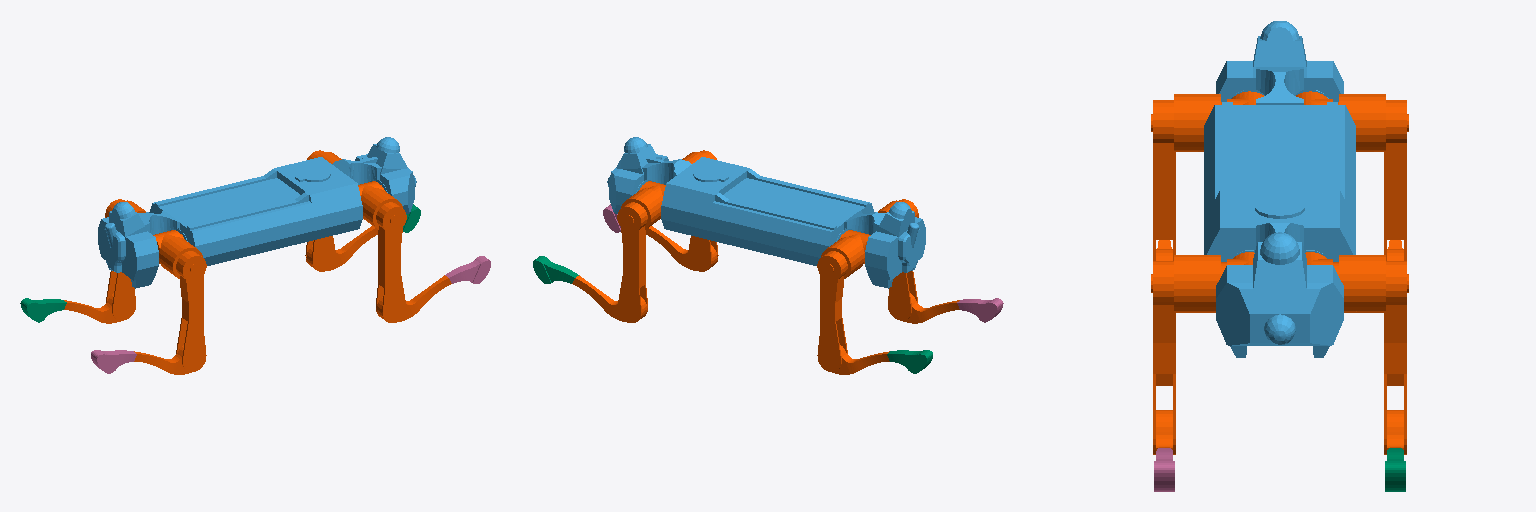
--- Render facts (derived) ---
Views: 3 orthographic renders of the robot side by side, from view 1: azimuth 30°, elevation 25°; view 2: azimuth 150°, elevation 25°; view 3: azimuth 270°, elevation 25°.
Model sirius_diff_new with 19 links and 18 joints (12 revolute, 6 fixed), rooted at base, posed all joints at 0 but 4 set to mid-range because 0 is outside their limits (RF_KFE = -1.81, LF_KFE = -1.81, RH_KFE = 1.81, LH_KFE = 1.81).
Links seen in each view (by area): view 1: trunk, RH_thigh, RF_thigh, LH_thigh, LF_thigh, RF_FOOT, RF_calf, RH_FOOT, LH_FOOT, LF_calf, RH_calf, LH_calf; view 2: trunk, LH_thigh, LF_thigh, RH_thigh, RF_thigh, LF_FOOT, LF_calf, LH_FOOT, RH_FOOT, RF_calf, LH_calf, RH_calf; view 3: trunk, RF_thigh, LF_thigh, RH_thigh, LH_thigh, LF_FOOT, RF_FOOT, RF_calf, LF_calf.
Link boxes in pixels (bbox=[...]): trunk: bbox=[98, 137, 416, 288]; RH_thigh: bbox=[159, 237, 206, 371]; RF_thigh: bbox=[361, 188, 406, 322]; LH_thigh: bbox=[105, 199, 145, 320]; LF_thigh: bbox=[305, 150, 341, 271]; RF_FOOT: bbox=[445, 256, 490, 283]; RF_calf: bbox=[377, 275, 451, 322]; RH_FOOT: bbox=[91, 350, 136, 373]; LH_FOOT: bbox=[20, 298, 66, 322]; LF_calf: bbox=[306, 226, 377, 270]; RH_calf: bbox=[134, 345, 191, 374]; LH_calf: bbox=[64, 293, 120, 323]; trunk: bbox=[607, 137, 925, 288]; LH_thigh: bbox=[817, 237, 864, 371]; LF_thigh: bbox=[617, 188, 662, 322]; RH_thigh: bbox=[878, 199, 918, 320]; RF_thigh: bbox=[682, 150, 718, 271]; LF_FOOT: bbox=[533, 256, 578, 283]; LF_calf: bbox=[572, 275, 646, 322]; LH_FOOT: bbox=[887, 350, 932, 373]; RH_FOOT: bbox=[957, 298, 1003, 322]; RF_calf: bbox=[646, 226, 717, 270]; LH_calf: bbox=[832, 345, 889, 374]; RH_calf: bbox=[903, 293, 959, 323]; trunk: bbox=[1204, 21, 1355, 357]; RF_thigh: bbox=[1151, 255, 1220, 454]; LF_thigh: bbox=[1339, 255, 1408, 454]; RH_thigh: bbox=[1151, 94, 1220, 260]; LH_thigh: bbox=[1339, 94, 1408, 260]; LF_FOOT: bbox=[1385, 448, 1405, 491]; RF_FOOT: bbox=[1154, 448, 1174, 491]; RF_calf: bbox=[1156, 410, 1172, 450]; LF_calf: bbox=[1387, 410, 1403, 449].
Size in the robot's own frame: 1.24 by 0.4266 by 0.4503 metres.
Meshes: 17 distinct files referenced, 17 mesh visuals loaded (8 binary STL, 9 Collada DAE).

URDF robot description (sirius_diff_new):
<?xml version="1.0" ?>
<!-- =================================================================================== -->
<!-- |    This document was autogenerated by xacro from xacro/robot.xacro              | -->
<!-- |    EDITING THIS FILE BY HAND IS NOT RECOMMENDED                                 | -->
<!-- =================================================================================== -->
<robot name="sirius_diff_new">
  <material name="black">
    <color rgba="0.0 0.0 0.0 1.0"/>
  </material>
  <material name="blue">
    <color rgba="0.0 0.0 0.8 1.0"/>
  </material>
  <material name="green">
    <color rgba="0.0 0.8 0.0 1.0"/>
  </material>
  <material name="grey">
    <color rgba="0.2 0.2 0.2 1.0"/>
  </material>
  <material name="silver">
    <color rgba="0.9137254901960784 0.9137254901960784 0.8470588235294118 1.0"/>
  </material>
  <material name="orange">
    <color rgba="1.0 0.4235294117647059 0.0392156862745098 1.0"/>
  </material>
  <material name="brown">
    <color rgba="0.8705882352941177 0.8117647058823529 0.7647058823529411 1.0"/>
  </material>
  <material name="red">
    <color rgba="0.8 0.0 0.0 1.0"/>
  </material>
  <material name="white">
    <color rgba="1.0 1.0 1.0 1.0"/>
  </material>
  <!-- ros_control plugin -->
  <gazebo>
    <plugin filename="liblegged_hw_sim.so" name="gazebo_ros_control">
      <robotNamespace>/</robotNamespace>
      <robotParam>legged_robot_description</robotParam>
      <robotSimType>legged_gazebo/LeggedHWSim</robotSimType>
    </plugin>
  </gazebo>
  <!-- Show the trajectory of trunk center. -->
  <!--    <gazebo>-->
  <!--        <plugin name="3dplot" filename="libLinkPlot3DPlugin.so">-->
  <!--            <frequency>10</frequency>-->
  <!--            <plot>-->
  <!--                <link>base</link>-->
  <!--                <pose>0 0 0 0 0 0</pose>-->
  <!--                <material>Gazebo/Yellow</material>-->
  <!--            </plot>-->
  <!--        </plugin>-->
  <!--    </gazebo>-->
  <!--    <gazebo>-->
  <!--        <plugin name="3dplot" filename="libLinkPlot3DPlugin.so">-->
  <!--            <frequency>300</frequency>-->
  <!--            <plot>-->
  <!--                <link>FR_foot</link>-->
  <!--                <pose>0 0 0 0 0 0</pose>-->
  <!--                <material>Gazebo/Red</material>-->
  <!--            </plot>-->
  <!--        </plugin>-->
  <!--    </gazebo>-->
  <!--    <gazebo>-->
  <!--        <plugin name="3dplot" filename="libLinkPlot3DPlugin.so">-->
  <!--            <frequency>300</frequency>-->
  <!--            <plot>-->
  <!--                <link>FL_foot</link>-->
  <!--                <pose>0 0 0 0 0 0</pose>-->
  <!--                <material>Gazebo/Red</material>-->
  <!--            </plot>-->
  <!--        </plugin>-->
  <!--    </gazebo>-->
  <!--    <gazebo>-->
  <!--        <plugin name="3dplot" filename="libLinkPlot3DPlugin.so">-->
  <!--            <frequency>300</frequency>-->
  <!--            <plot>-->
  <!--                <link>RR_foot</link>-->
  <!--                <pose>0 0 0 0 0 0</pose>-->
  <!--                <material>Gazebo/Red</material>-->
  <!--            </plot>-->
  <!--        </plugin>-->
  <!--    </gazebo>-->
  <!--    <gazebo>-->
  <!--        <plugin name="3dplot" filename="libLinkPlot3DPlugin.so">-->
  <!--            <frequency>300</frequency>-->
  <!--            <plot>-->
  <!--                <link>RL_foot</link>-->
  <!--                <pose>0 0 0 0 0 0</pose>-->
  <!--                <material>Gazebo/Red</material>-->
  <!--            </plot>-->
  <!--        </plugin>-->
  <!--    </gazebo>-->
  <!--    <gazebo>-->
  <!--        <plugin filename="libgazebo_ros_force.so" name="gazebo_ros_force">-->
  <!--            <bodyName>trunk</bodyName>-->
  <!--            <topicName>/apply_force/trunk</topicName>-->
  <!--        </plugin>-->
  <!--    </gazebo>-->
  <gazebo reference="imu_link">
    <gravity>true</gravity>
    <sensor name="imu_sensor" type="imu">
      <always_on>true</always_on>
      <update_rate>1000</update_rate>
      <visualize>true</visualize>
      <topic>__default_topic__</topic>
      <plugin filename="libgazebo_ros_imu_sensor.so" name="imu_plugin">
        <topicName>trunk_imu</topicName>
        <bodyName>imu_link</bodyName>
        <updateRateHZ>1000.0</updateRateHZ>
        <gaussianNoise>0.0</gaussianNoise>
        <xyzOffset>0 0 0</xyzOffset>
        <rpyOffset>0 0 0</rpyOffset>
        <frameName>imu_link</frameName>
      </plugin>
      <pose>0 0 0 0 0 0</pose>
    </sensor>
  </gazebo>
  <!-- Foot contacts. -->
  <!--    <gazebo reference="FR_calf">-->
  <!--        <sensor name="FR_foot_contact" type="contact">-->
  <!--            <update_rate>100</update_rate>-->
  <!--            <plugin name="contactPlugin" filename="libunitreeFootContactPlugin.so"/>-->
  <!--            <contact>-->
  <!--                <collision>FR_calf_fixed_joint_lump__FR_foot_collision_1</collision>-->
  <!--            </contact>-->
  <!--        </sensor>-->
  <!--    </gazebo>-->
  <!--    <gazebo reference="FL_calf">-->
  <!--        <sensor name="FL_foot_contact" type="contact">-->
  <!--            <update_rate>100</update_rate>-->
  <!--            <plugin name="contactPlugin" filename="libunitreeFootContactPlugin.so"/>-->
  <!--            <contact>-->
  <!--                <collision>FL_calf_fixed_joint_lump__FL_foot_collision_1</collision>-->
  <!--            </contact>-->
  <!--        </sensor>-->
  <!--    </gazebo>-->
  <!--    <gazebo reference="RR_calf">-->
  <!--        <sensor name="RR_foot_contact" type="contact">-->
  <!--            <update_rate>100</update_rate>-->
  <!--            <plugin name="contactPlugin" filename="libunitreeFootContactPlugin.so"/>-->
  <!--            <contact>-->
  <!--                <collision>RR_calf_fixed_joint_lump__RR_foot_collision_1</collision>-->
  <!--            </contact>-->
  <!--        </sensor>-->
  <!--    </gazebo>-->
  <!--    <gazebo reference="RL_calf">-->
  <!--        <sensor name="RL_foot_contact" type="contact">-->
  <!--            <update_rate>100</update_rate>-->
  <!--            <plugin name="contactPlugin" filename="libunitreeFootContactPlugin.so"/>-->
  <!--            <contact>-->
  <!--                <collision>RL_calf_fixed_joint_lump__RL_foot_collision_1</collision>-->
  <!--            </contact>-->
  <!--        </sensor>-->
  <!--    </gazebo>-->
  <!--    &lt;!&ndash; Visualization of Foot contacts. &ndash;&gt;-->
  <!--    <gazebo reference="FR_foot">-->
  <!--        <visual>-->
  <!--            <plugin name="drawForcePlugin" filename="libunitreeDrawForcePlugin.so">-->
  <!--                <topicName>FR_foot_contact</topicName>-->
  <!--            </plugin>-->
  <!--        </visual>-->
  <!--    </gazebo>-->
  <!--    <gazebo reference="FL_foot">-->
  <!--        <visual>-->
  <!--            <plugin name="drawForcePlugin" filename="libunitreeDrawForcePlugin.so">-->
  <!--                <topicName>FL_foot_contact</topicName>-->
  <!--            </plugin>-->
  <!--        </visual>-->
  <!--    </gazebo>-->
  <!--    <gazebo reference="RR_foot">-->
  <!--        <visual>-->
  <!--            <plugin name="drawForcePlugin" filename="libunitreeDrawForcePlugin.so">-->
  <!--                <topicName>RR_foot_contact</topicName>-->
  <!--            </plugin>-->
  <!--        </visual>-->
  <!--    </gazebo>-->
  <!--    <gazebo reference="RL_foot">-->
  <!--        <visual>-->
  <!--            <plugin name="drawForcePlugin" filename="libunitreeDrawForcePlugin.so">-->
  <!--                <topicName>RL_foot_contact</topicName>-->
  <!--            </plugin>-->
  <!--        </visual>-->
  <!--    </gazebo>-->
  <gazebo reference="base">
    <material>Gazebo/Green</material>
    <turnGravityOff>false</turnGravityOff>
  </gazebo>
  <gazebo reference="trunk">
    <mu1>0.6</mu1>
    <mu2>0.6</mu2>
    <kp value="1000000.0"/>
    <kd value="10.0"/>
  </gazebo>
  <gazebo reference="stick_link">
    <mu1>0.2</mu1>
    <mu2>0.2</mu2>
    <material>Gazebo/White</material>
  </gazebo>
  <gazebo reference="imu_link">
    <mu1>0.2</mu1>
    <mu2>0.2</mu2>
    <material>Gazebo/Red</material>
  </gazebo>
  <gazebo reference="imu_joint">
    <disableFixedJointLumping>true</disableFixedJointLumping>
  </gazebo>
  <link name="base">
    <visual>
      <origin rpy="0 0 0" xyz="0 0 0"/>
      <geometry>
        <box size="0.001 0.001 0.001"/>
      </geometry>
    </visual>
  </link>
  <joint name="floating_base" type="fixed">
    <origin rpy="0 0 0" xyz="0 0 0"/>
    <parent link="base"/>
    <child link="trunk"/>
  </joint>
  <link name="trunk">
    <visual>
      <origin rpy="0 0 0" xyz="-0 0 0"/>
      <geometry>
        <mesh filename="../meshes/base_link.dae" scale="1 1 1"/>
      </geometry>
    </visual>
    <collision>
      <origin rpy="0 0 0" xyz="0 0 0"/>
      <geometry>
        <!--                <mesh filename="../meshes/base_link.dae" scale="1 1 1"/>-->
        <box size="0.525 0.25 0.114"/>
      </geometry>
    </collision>
    <collision>
      <origin rpy="0 0 0" xyz="0.418 0 0"/>
      <geometry>
        <box size="0.105 0.21 0.16"/>
      </geometry>
    </collision>
    <collision>
      <origin rpy="0 0 0" xyz="-0.4105 0 0"/>
      <geometry>
        <box size="0.09 0.21 0.16"/>
      </geometry>
    </collision>
    <collision>
      <origin rpy="0 0 0" xyz="0.3905 -0.06 -0.0718"/>
      <geometry>
        <sphere radius="0.02"/>
      </geometry>
    </collision>
    <collision>
      <origin rpy="0 0 0" xyz="-0.3905 -0.06 -0.0718"/>
      <geometry>
        <sphere radius="0.02"/>
      </geometry>
    </collision>
    <collision>
      <origin rpy="0 0 0" xyz="0.3905 0.06 -0.0718"/>
      <geometry>
        <sphere radius="0.02"/>
      </geometry>
    </collision>
    <collision>
      <origin rpy="0 0 0" xyz="-0.3905 0.06 -0.0718"/>
      <geometry>
        <sphere radius="0.02"/>
      </geometry>
    </collision>
    <inertial>
      <origin rpy="0 0 0" xyz="0.02677303 0.0 0.00632505"/>
      <mass value="21.5654"/>
      <inertia ixx="0.10767656" ixy="3.3e-07" ixz="-0.0087152" iyy="2.82545726" iyz="-2.4e-07" izz="2.85571634"/>
    </inertial>
  </link>
  <joint name="imu_joint" type="fixed">
    <parent link="trunk"/>
    <child link="imu_link"/>
    <origin rpy="0 0 0" xyz="-0.01592 -0.06659 -0.00617"/>
  </joint>
  <link name="imu_link">
    <inertial>
      <mass value="0.001"/>
      <origin rpy="0 0 0" xyz="0 0 0"/>
      <inertia ixx="0.0001" ixy="0" ixz="0" iyy="0.0001" iyz="0" izz="0.0001"/>
    </inertial>
    <visual>
      <origin rpy="0 0 0" xyz="0 0 0"/>
      <geometry>
        <box size="0.001 0.001 0.001"/>
      </geometry>
      <!-- <material name="red"/> -->
    </visual>
    <collision>
      <origin rpy="0 0 0" xyz="0 0 0"/>
      <geometry>
        <box size=".001 .001 .001"/>
      </geometry>
    </collision>
  </link>
  <!--       *********************************** abad description *************8-->
  <joint name="RF_HAA" type="revolute">
    <!--            insert start block from parent file-->
    <origin rpy="0 0 0" xyz="0.314 -0.05 0"/>
    <parent link="trunk"/>
    <child link="RF_hip"/>
    <axis xyz="1 0 0"/>
    <dynamics damping="0" friction="0.01"/>
    <limit effort="45" lower="-0.8028514559173915" upper="0.8028514559173915" velocity="21"/>
  </joint>
  <link name="RF_hip">
    <visual>
      <origin rpy="0 0 0" xyz="0 0 0"/>
      <geometry>
        <mesh filename="../meshes/fr_abad_link.dae" scale="1 1 1"/>
      </geometry>
      <material name="orange"/>
    </visual>
    <collision>
      <origin rpy="1.5707963267948966 0 0" xyz="0.0 -0.03 0"/>
      <geometry>
        <cylinder length="0.09" radius="0.055"/>
      </geometry>
    </collision>
    <!--            tochange here-->
    <!--            <collision>-->
    <!--                <origin rpy="${pi/2} 0 0"-->
    <!--                        xyz="${abad_origin_x*front_hind_mirror} ${abad_origin_y*left_right_mirror} 0"/>-->
    <!--                <geometry>-->
    <!--                    <xacro:if value="${(left_right_bool == True) and (front_hind_bool == True)}">-->
    <!--                        <mesh filename="../meshes/fl_abad_link.dae"-->
    <!--                              scale="1 1 1"/>-->
    <!--                    </xacro:if>-->
    <!--                    <xacro:if value="${(left_right_bool == False) and (front_hind_bool == True)}">-->
    <!--                        <mesh filename="../meshes/fr_abad_link.dae"-->
    <!--                              scale="1 1 1"/>-->
    <!--                    </xacro:if>-->
    <!--                    <xacro:if value="${(left_right_bool == True) and (front_hind_bool == False)}">-->
    <!--                        <mesh filename="../meshes/rl_abad_link.dae"-->
    <!--                              scale="1 1 1"/>-->
    <!--                    </xacro:if>-->
    <!--                    <xacro:if value="${(left_right_bool == False) and (front_hind_bool == False)}">-->
    <!--                        <mesh filename="../meshes/rr_abad_link.dae"-->
    <!--                              scale="1 1 1"/>-->
    <!--                    </xacro:if>-->
    <!--                </geometry>-->
    <!--            </collision>-->
    <inertial>
      <origin rpy="0 0 0" xyz="1.787e-05 -0.00607236 -8.968e-05"/>
      <mass value="0.7766"/>
      <inertia ixx="0.00066364" ixy="-0.0" ixz="0" iyy="0.00093712" iyz="-2.89e-06" izz="0.00106375"/>
    </inertial>
  </link>
  <!--        *************************************** hip description ******************************************************-->
  <joint name="RF_HFE" type="revolute">
    <origin rpy="0 0 0" xyz="0 -0.1408 0"/>
    <parent link="RF_hip"/>
    <child link="RF_thigh"/>
    <axis xyz="0 1 0"/>
    <dynamics damping="0" friction="0.01"/>
    <limit effort="45" lower="-4.1887902047863905" upper="4.1887902047863905" velocity="21"/>
  </joint>
  <link name="RF_thigh">
    <visual>
      <origin rpy="0 0 0" xyz="0 0 0"/>
      <geometry>
        <mesh filename="../meshes/fr_hip_link.dae" scale="1 1 1"/>
      </geometry>
      <material name="orange"/>
    </visual>
    <collision>
      <origin rpy="1.5707963267948966 0 0" xyz="0 0 0"/>
      <geometry>
        <cylinder length="0.039" radius="0.0375"/>
      </geometry>
    </collision>
    <collision>
      <origin rpy="1.5707963267948966 0 0" xyz="0 0.04 0"/>
      <geometry>
        <cylinder length="0.048" radius="0.05"/>
      </geometry>
    </collision>
    <collision>
      <origin rpy="0 1.5707963267948966 0" xyz="0 0 -0.1382"/>
      <geometry>
        <box size="0.2159 0.05 0.05"/>
      </geometry>
    </collision>
    <inertial>
      <origin rpy="0 0 0" xyz="-0.00142243 0.02451835 -0.06737031"/>
      <mass value="2.1028"/>
      <inertia ixx="0.03392455" ixy="1.021e-05" ixz="-0.00038283" iyy="0.03116088" iyz="4.69e-05" izz="0.00483256"/>
    </inertial>
  </link>
  <!--************************************************ knee description ***********************************************************8-->
  <joint name="RF_KFE" type="revolute">
    <origin rpy="0 0 0" xyz="0.0 -0.0 -0.272"/>
    <parent link="RF_thigh"/>
    <child link="RF_calf"/>
    <axis xyz="0 1 0"/>
    <dynamics damping="0" friction="0.01"/>
    <limit effort="80" lower="-2.6965336943312392" upper="-0.9162978572970231" velocity="21"/>
  </joint>
  <link name="RF_calf">
    <visual>
      <origin rpy="0 0 0" xyz="0 0 0"/>
      <geometry>
        <mesh filename="../meshes/fr_knee_link.STL" scale="1 1 1"/>
      </geometry>
      <material name="orange"/>
    </visual>
    <collision>
      <origin rpy="0 0 0" xyz="0 0 0.0"/>
      <geometry>
        <mesh filename="../meshes/fr_knee_link.STL" scale="1 1 1"/>
      </geometry>
    </collision>
    <inertial>
      <origin rpy="0 0 0" xyz="-0.00804831 1.07e-06 -0.12689414"/>
      <mass value="0.4842"/>
      <inertia ixx="0.01527064" ixy="0.0" ixz="-0.00063844" iyy="0.01543121" iyz="2e-08" izz="0.00022068"/>
    </inertial>
  </link>
  <!--       ******************************* foot description ********************************8-->
  <joint name="RF_foot_fixed" type="fixed" dont_collapse="true">
    <origin rpy="0 0 0" xyz="0 0 -0.303542171457651"/>
    <!-- <origin rpy="0 0 0" xyz="0 0 0"/> -->
    <parent link="RF_calf"/>
    <child link="RF_FOOT"/>
  </joint>
  <link name="RF_FOOT">
    <visual>
      <origin rpy="0 0 0" xyz="0 0 0"/>
      <geometry>
        <mesh filename="../meshes/fr_foot_link.STL" scale="1 1 1"/>
      </geometry>
    </visual>
    <collision>
      <origin rpy="0 0 0" xyz="0 0 0"/>
        <!-- <geometry>
          <sphere radius="0.03"/>
        </geometry> -->
      <geometry>
        <mesh filename="../meshes/fr_foot_link.STL" scale="1 1 1"/>
      </geometry>
    </collision>
    <inertial>
      <mass value="0.06"/>
      <inertia ixx="9.600000000000001e-04" ixy="0.0" ixz="0.0" iyy="9.600000000000001e-04" iyz="0.0" izz="9.600000000000001e-03"/>
    </inertial>
  </link>
  <!--        ************************** gazebo setting ***********************************************8-->
  <gazebo reference="RF_foot_fixed">
    <disableFixedJointLumping>true</disableFixedJointLumping>
  </gazebo>
  <gazebo reference="RF_hip">
    <!--            <mu1>0.5</mu1>-->
    <!--            <mu2>0.5</mu2>-->
    <!--            <self_collide>1</self_collide>-->
    <!--            <material>Gazebo/DarkGrey</material>-->
  </gazebo>
  <gazebo reference="RF_thigh">
    <mu1>0.6</mu1>
    <mu2>0.6</mu2>
    <self_collide>0</self_collide>
    <material>Gazebo/DarkGrey</material>
    <kp value="100000.0"/>
    <kd value="1.0"/>
  </gazebo>
  <gazebo reference="RF_calf">
    <mu1>0.6</mu1>
    <mu2>0.6</mu2>
    <self_collide>1</self_collide>
    <material>Gazebo/DarkGrey</material>
    <kp value="100000.0"/>
    <kd value="1.0"/>
    <maxVel>10.0</maxVel>
    <minDepth>0.001</minDepth>
  </gazebo>
  <transmission name="RF_hip_tran">
    <type>transmission_interface/SimpleTransmission</type>
    <joint name="RF_HAA">
      <hardwareInterface>hardware_interface/EffortJointInterface</hardwareInterface>
    </joint>
    <actuator name="RF_hip_motor">
      <hardwareInterface>hardware_interface/EffortJointInterface</hardwareInterface>
      <mechanicalReduction>1</mechanicalReduction>
    </actuator>
  </transmission>
  <transmission name="RF_thigh_tran">
    <type>transmission_interface/SimpleTransmission</type>
    <joint name="RF_HFE">
      <hardwareInterface>hardware_interface/EffortJointInterface</hardwareInterface>
    </joint>
    <actuator name="RF_thigh_motor">
      <hardwareInterface>hardware_interface/EffortJointInterface</hardwareInterface>
      <mechanicalReduction>1</mechanicalReduction>
    </actuator>
  </transmission>
  <transmission name="RF_calf_trans">
    <type>transmission_interface/SimpleTransmission</type>
    <joint name="RF_KFE">
      <hardwareInterface>hardware_interface/EffortJointInterface</hardwareInterface>
    </joint>
    <actuator name="RF_calf_motor">
      <hardwareInterface>hardware_interface/EffortJointInterface</hardwareInterface>
      <mechanicalReduction>1</mechanicalReduction>
    </actuator>
  </transmission>
  <!--       *********************************** abad description *************8-->
  <joint name="LF_HAA" type="revolute">
    <!--            insert start block from parent file-->
    <origin rpy="0 0 0" xyz="0.314 0.05 0"/>
    <parent link="trunk"/>
    <child link="LF_hip"/>
    <axis xyz="1 0 0"/>
    <dynamics damping="0" friction="0.01"/>
    <limit effort="45" lower="-0.8028514559173915" upper="0.8028514559173915" velocity="21"/>
  </joint>
  <link name="LF_hip">
    <visual>
      <origin rpy="0 0 0" xyz="0 0 0"/>
      <geometry>
        <mesh filename="../meshes/fl_abad_link.dae" scale="1 1 1"/>
      </geometry>
      <material name="orange"/>
    </visual>
    <collision>
      <origin rpy="1.5707963267948966 0 0" xyz="0.0 0.03 0"/>
      <geometry>
        <cylinder length="0.09" radius="0.055"/>
      </geometry>
    </collision>
    <!--            tochange here-->
    <!--            <collision>-->
    <!--                <origin rpy="${pi/2} 0 0"-->
    <!--                        xyz="${abad_origin_x*front_hind_mirror} ${abad_origin_y*left_right_mirror} 0"/>-->
    <!--                <geometry>-->
    <!--                    <xacro:if value="${(left_right_bool == True) and (front_hind_bool == True)}">-->
    <!--                        <mesh filename="../meshes/fl_abad_link.dae"-->
    <!--                              scale="1 1 1"/>-->
    <!--                    </xacro:if>-->
    <!--                    <xacro:if value="${(left_right_bool == False) and (front_hind_bool == True)}">-->
    <!--                        <mesh filename="../meshes/fr_abad_link.dae"-->
    <!--                              scale="1 1 1"/>-->
    <!--                    </xacro:if>-->
    <!--                    <xacro:if value="${(left_right_bool == True) and (front_hind_bool == False)}">-->
    <!--                        <mesh filename="../meshes/rl_abad_link.dae"-->
    <!--                              scale="1 1 1"/>-->
    <!--                    </xacro:if>-->
    <!--                    <xacro:if value="${(left_right_bool == False) and (front_hind_bool == False)}">-->
    <!--                        <mesh filename="../meshes/rr_abad_link.dae"-->
    <!--                              scale="1 1 1"/>-->
    <!--                    </xacro:if>-->
    <!--                </geometry>-->
    <!--            </collision>-->
    <inertial>
      <origin rpy="0 0 0" xyz="1.787e-05 0.00607236 -8.968e-05"/>
      <mass value="0.7766"/>
      <inertia ixx="0.00066364" ixy="0.0" ixz="0" iyy="0.00093712" iyz="2.89e-06" izz="0.00106375"/>
    </inertial>
  </link>
  <!--        *************************************** hip description ******************************************************-->
  <joint name="LF_HFE" type="revolute">
    <origin rpy="0 0 0" xyz="0 0.1408 0"/>
    <parent link="LF_hip"/>
    <child link="LF_thigh"/>
    <axis xyz="0 1 0"/>
    <dynamics damping="0" friction="0.01"/>
    <limit effort="45" lower="-4.1887902047863905" upper="4.1887902047863905" velocity="21"/>
  </joint>
  <link name="LF_thigh">
    <visual>
      <origin rpy="0 0 0" xyz="0 0 0"/>
      <geometry>
        <mesh filename="../meshes/fl_hip_link.dae" scale="1 1 1"/>
      </geometry>
      <material name="orange"/>
    </visual>
    <collision>
      <origin rpy="1.5707963267948966 0 0" xyz="0 0 0"/>
      <geometry>
        <cylinder length="0.039" radius="0.0375"/>
      </geometry>
    </collision>
    <collision>
      <origin rpy="1.5707963267948966 0 0" xyz="0 -0.04 0"/>
      <geometry>
        <cylinder length="0.048" radius="0.05"/>
      </geometry>
    </collision>
    <collision>
      <origin rpy="0 1.5707963267948966 0" xyz="0 0 -0.1382"/>
      <geometry>
        <box size="0.2159 0.05 0.05"/>
      </geometry>
    </collision>
    <inertial>
      <origin rpy="0 0 0" xyz="-0.00142243 -0.02451835 -0.06737031"/>
      <mass value="2.1028"/>
      <inertia ixx="0.03392455" ixy="-1.021e-05" ixz="-0.00038283" iyy="0.03116088" iyz="-4.69e-05" izz="0.00483256"/>
    </inertial>
  </link>
  <!--************************************************ knee description ***********************************************************8-->
  <joint name="LF_KFE" type="revolute">
    <origin rpy="0 0 0" xyz="0.0 0.0 -0.272"/>
    <parent link="LF_thigh"/>
    <child link="LF_calf"/>
    <axis xyz="0 1 0"/>
    <dynamics damping="0" friction="0.01"/>
    <limit effort="80" lower="-2.6965336943312392" upper="-0.9162978572970231" velocity="21"/>
  </joint>
  <link name="LF_calf">
    <visual>
      <origin rpy="0 0 0" xyz="0 0 0"/>
      <geometry>
        <mesh filename="../meshes/fl_knee_link.STL" scale="1 1 1"/>
      </geometry>
      <material name="orange"/>
    </visual>
    <collision>
      <origin rpy="0 0 0" xyz="0 0 0.0"/>
      <geometry>
        <mesh filename="../meshes/fl_knee_link.STL" scale="1 1 1"/>
      </geometry>
    </collision>
    <inertial>
      <origin rpy="0 0 0" xyz="-0.00804831 1.07e-06 -0.12689414"/>
      <mass value="0.4842"/>
      <inertia ixx="0.01527064" ixy="0.0" ixz="-0.00063844" iyy="0.01543121" iyz="2e-08" izz="0.00022068"/>
    </inertial>
  </link>
  <!--       ******************************* foot description ********************************8-->
  <joint name="LF_foot_fixed" type="fixed" dont_collapse="true">
    <origin rpy="0 0 0" xyz="0 0 -0.303542171457651"/>
    <!-- <origin rpy="0 0 0" xyz="0 0 0"/> -->
    <parent link="LF_calf"/>
    <child link="LF_FOOT"/>
  </joint>
  <link name="LF_FOOT">
    <visual>
      <origin rpy="0 0 0" xyz="0 0 0"/>
      <geometry>
        <mesh filename="../meshes/fl_foot_link.STL" scale="1 1 1"/>
      </geometry>
    </visual>
    <collision>
      <origin rpy="0 0 0" xyz="0 0 0"/>
      <!-- <geometry>
        <sphere radius="0.03"/>
      </geometry> -->
      <geometry>
        <mesh filename="../meshes/fl_foot_link.STL" scale="1 1 1"/>
      </geometry>
    </collision>
    <inertial>
      <mass value="0.06"/>
      <inertia ixx="9.600000000000001e-04" ixy="0.0" ixz="0.0" iyy="9.600000000000001e-04" iyz="0.0" izz="9.600000000000001e-03"/>
    </inertial>
  </link>
  <!--        ************************** gazebo setting ***********************************************8-->
  <gazebo reference="LF_foot_fixed">
    <disableFixedJointLumping>true</disableFixedJointLumping>
  </gazebo>
  <gazebo reference="LF_hip">
    <!--            <mu1>0.5</mu1>-->
    <!--            <mu2>0.5</mu2>-->
    <!--            <self_collide>1</self_collide>-->
    <!--            <material>Gazebo/DarkGrey</material>-->
  </gazebo>
  <gazebo reference="LF_thigh">
    <mu1>0.6</mu1>
    <mu2>0.6</mu2>
    <self_collide>0</self_collide>
    <material>Gazebo/DarkGrey</material>
    <kp value="100000.0"/>
    <kd value="1.0"/>
  </gazebo>
  <gazebo reference="LF_calf">
    <mu1>0.6</mu1>
    <mu2>0.6</mu2>
    <self_collide>1</self_collide>
    <material>Gazebo/DarkGrey</material>
    <kp value="100000.0"/>
    <kd value="1.0"/>
    <maxVel>10.0</maxVel>
    <minDepth>0.001</minDepth>
  </gazebo>
  <transmission name="LF_hip_tran">
    <type>transmission_interface/SimpleTransmission</type>
    <joint name="LF_HAA">
      <hardwareInterface>hardware_interface/EffortJointInterface</hardwareInterface>
    </joint>
    <actuator name="LF_hip_motor">
      <hardwareInterface>hardware_interface/EffortJointInterface</hardwareInterface>
      <mechanicalReduction>1</mechanicalReduction>
    </actuator>
  </transmission>
  <transmission name="LF_thigh_tran">
    <type>transmission_interface/SimpleTransmission</type>
    <joint name="LF_HFE">
      <hardwareInterface>hardware_interface/EffortJointInterface</hardwareInterface>
    </joint>
    <actuator name="LF_thigh_motor">
      <hardwareInterface>hardware_interface/EffortJointInterface</hardwareInterface>
      <mechanicalReduction>1</mechanicalReduction>
    </actuator>
  </transmission>
  <transmission name="LF_calf_trans">
    <type>transmission_interface/SimpleTransmission</type>
    <joint name="LF_KFE">
      <hardwareInterface>hardware_interface/EffortJointInterface</hardwareInterface>
    </joint>
    <actuator name="LF_calf_motor">
      <hardwareInterface>hardware_interface/EffortJointInterface</hardwareInterface>
      <mechanicalReduction>1</mechanicalReduction>
    </actuator>
  </transmission>
  <!--       *********************************** abad description *************8-->
  <joint name="RH_HAA" type="revolute">
    <!--            insert start block from parent file-->
    <origin rpy="0 0 0" xyz="-0.314 -0.05 0"/>
    <parent link="trunk"/>
    <child link="RH_hip"/>
    <axis xyz="1 0 0"/>
    <dynamics damping="0" friction="0.01"/>
    <limit effort="45" lower="-0.8028514559173915" upper="0.8028514559173915" velocity="21"/>
  </joint>
  <link name="RH_hip">
    <visual>
      <origin rpy="0 0 0" xyz="0 0 0"/>
      <geometry>
        <mesh filename="../meshes/rr_abad_link.dae" scale="1 1 1"/>
      </geometry>
      <material name="orange"/>
    </visual>
    <collision>
      <origin rpy="1.5707963267948966 0 0" xyz="-0.0 -0.03 0"/>
      <geometry>
        <cylinder length="0.09" radius="0.055"/>
      </geometry>
    </collision>
    <!--            tochange here-->
    <!--            <collision>-->
    <!--                <origin rpy="${pi/2} 0 0"-->
    <!--                        xyz="${abad_origin_x*front_hind_mirror} ${abad_origin_y*left_right_mirror} 0"/>-->
    <!--                <geometry>-->
    <!--                    <xacro:if value="${(left_right_bool == True) and (front_hind_bool == True)}">-->
    <!--                        <mesh filename="../meshes/fl_abad_link.dae"-->
    <!--                              scale="1 1 1"/>-->
    <!--                    </xacro:if>-->
    <!--                    <xacro:if value="${(left_right_bool == False) and (front_hind_bool == True)}">-->
    <!--                        <mesh filename="../meshes/fr_abad_link.dae"-->
    <!--                              scale="1 1 1"/>-->
    <!--                    </xacro:if>-->
    <!--                    <xacro:if value="${(left_right_bool == True) and (front_hind_bool == False)}">-->
    <!--                        <mesh filename="../meshes/rl_abad_link.dae"-->
    <!--                              scale="1 1 1"/>-->
    <!--                    </xacro:if>-->
    <!--                    <xacro:if value="${(left_right_bool == False) and (front_hind_bool == False)}">-->
    <!--                        <mesh filename="../meshes/rr_abad_link.dae"-->
    <!--                              scale="1 1 1"/>-->
    <!--                    </xacro:if>-->
    <!--                </geometry>-->
    <!--            </collision>-->
    <inertial>
      <origin rpy="0 0 0" xyz="-1.787e-05 -0.00607236 -8.968e-05"/>
      <mass value="0.7766"/>
      <inertia ixx="0.00066364" ixy="0.0" ixz="0" iyy="0.00093712" iyz="-2.89e-06" izz="0.00106375"/>
    </inertial>
  </link>
  <!--        *************************************** hip description ******************************************************-->
  <joint name="RH_HFE" type="revolute">
    <origin rpy="0 0 0" xyz="0 -0.1408 0"/>
    <parent link="RH_hip"/>
    <child link="RH_thigh"/>
    <axis xyz="0 1 0"/>
    <dynamics damping="0" friction="0.01"/>
    <limit effort="45" lower="-4.1887902047863905" upper="4.1887902047863905" velocity="21"/>
  </joint>
  <link name="RH_thigh">
    <visual>
      <origin rpy="0 0 0" xyz="0 0 0"/>
      <geometry>
        <mesh filename="../meshes/rr_hip_link.dae" scale="1 1 1"/>
      </geometry>
      <material name="orange"/>
    </visual>
    <collision>
      <origin rpy="1.5707963267948966 0 0" xyz="0 0 0"/>
      <geometry>
        <cylinder length="0.039" radius="0.0375"/>
      </geometry>
    </collision>
    <collision>
      <origin rpy="1.5707963267948966 0 0" xyz="0 0.04 0"/>
      <geometry>
        <cylinder length="0.048" radius="0.05"/>
      </geometry>
    </collision>
    <collision>
      <origin rpy="0 1.5707963267948966 0" xyz="0 0 -0.1382"/>
      <geometry>
        <box size="0.2159 0.05 0.05"/>
      </geometry>
    </collision>
    <inertial>
      <origin rpy="0 0 0" xyz="0.00142243 0.02451835 -0.06737031"/>
      <mass value="2.1028"/>
      <inertia ixx="0.03392455" ixy="1.021e-05" ixz="-0.00038283" iyy="0.03116088" iyz="4.69e-05" izz="0.00483256"/>
    </inertial>
  </link>
  <!--************************************************ knee description ***********************************************************8-->
  <joint name="RH_KFE" type="revolute">
    <origin rpy="0 0 0" xyz="-0.0 -0.0 -0.272"/>
    <parent link="RH_thigh"/>
    <child link="RH_calf"/>
    <axis xyz="0 1 0"/>
    <dynamics damping="0" friction="0.01"/>
    <limit effort="80" lower="0.9162978572970231" upper="2.6965336943312392" velocity="21"/>
  </joint>
  <link name="RH_calf">
    <visual>
      <origin rpy="0 0 0" xyz="0 0 0"/>
      <geometry>
        <mesh filename="../meshes/rr_knee_link.STL" scale="1 1 1"/>
      </geometry>
      <material name="orange"/>
    </visual>
    <collision>
      <origin rpy="0 0 0" xyz="0 0 0.0"/>
      <geometry>
        <mesh filename="../meshes/rr_knee_link.STL" scale="1 1 1"/>
      </geometry>
    </collision>
    <inertial>
      <origin rpy="0 0 0" xyz="-0.00804831 1.07e-06 -0.12689414"/>
      <mass value="0.4842"/>
      <inertia ixx="0.01527064" ixy="0.0" ixz="-0.00063844" iyy="0.01543121" iyz="2e-08" izz="0.00022068"/>
    </inertial>
  </link>
  <!--       ******************************* foot description ********************************8-->
  <joint name="RH_foot_fixed" type="fixed" dont_collapse="true">
    <origin rpy="0 0 0" xyz="0. 0 -0.303542171457651"/>
    <!-- <origin rpy="0 0 0" xyz="0 0 0"/> -->
    <parent link="RH_calf"/>
    <child link="RH_FOOT"/>
  </joint>
  <link name="RH_FOOT">
    <visual>
      <origin rpy="0 0 0" xyz="0 0 0"/>
      <geometry>
        <mesh filename="../meshes/rr_foot_link.STL" scale="1 1 1"/>
      </geometry>
    </visual>
    <collision>
      <origin rpy="0 0 0" xyz="0 0 0"/>
      <!-- <geometry>
        <sphere radius="0.03"/>
      </geometry> -->
      <geometry>
        <mesh filename="../meshes/rr_foot_link.STL" scale="1 1 1"/>
      </geometry>
    </collision>
    <inertial>
      <mass value="0.06"/>
      <inertia ixx="9.600000000000001e-04" ixy="0.0" ixz="0.0" iyy="9.600000000000001e-04" iyz="0.0" izz="9.600000000000001e-03"/>
    </inertial>
  </link>
  <!--        ************************** gazebo setting ***********************************************8-->
  <gazebo reference="RH_foot_fixed">
    <disableFixedJointLumping>true</disableFixedJointLumping>
  </gazebo>
  <gazebo reference="RH_hip">
    <!--            <mu1>0.5</mu1>-->
    <!--            <mu2>0.5</mu2>-->
    <!--            <self_collide>1</self_collide>-->
    <!--            <material>Gazebo/DarkGrey</material>-->
  </gazebo>
  <gazebo reference="RH_thigh">
    <mu1>0.6</mu1>
    <mu2>0.6</mu2>
    <self_collide>0</self_collide>
    <material>Gazebo/DarkGrey</material>
    <kp value="100000.0"/>
    <kd value="1.0"/>
  </gazebo>
  <gazebo reference="RH_calf">
    <mu1>0.6</mu1>
    <mu2>0.6</mu2>
    <self_collide>1</self_collide>
    <material>Gazebo/DarkGrey</material>
    <kp value="100000.0"/>
    <kd value="1.0"/>
    <maxVel>10.0</maxVel>
    <minDepth>0.001</minDepth>
  </gazebo>
  <transmission name="RH_hip_tran">
    <type>transmission_interface/SimpleTransmission</type>
    <joint name="RH_HAA">
      <hardwareInterface>hardware_interface/EffortJointInterface</hardwareInterface>
    </joint>
    <actuator name="RH_hip_motor">
      <hardwareInterface>hardware_interface/EffortJointInterface</hardwareInterface>
      <mechanicalReduction>1</mechanicalReduction>
    </actuator>
  </transmission>
  <transmission name="RH_thigh_tran">
    <type>transmission_interface/SimpleTransmission</type>
    <joint name="RH_HFE">
      <hardwareInterface>hardware_interface/EffortJointInterface</hardwareInterface>
    </joint>
    <actuator name="RH_thigh_motor">
      <hardwareInterface>hardware_interface/EffortJointInterface</hardwareInterface>
      <mechanicalReduction>1</mechanicalReduction>
    </actuator>
  </transmission>
  <transmission name="RH_calf_trans">
    <type>transmission_interface/SimpleTransmission</type>
    <joint name="RH_KFE">
      <hardwareInterface>hardware_interface/EffortJointInterface</hardwareInterface>
    </joint>
    <actuator name="RH_calf_motor">
      <hardwareInterface>hardware_interface/EffortJointInterface</hardwareInterface>
      <mechanicalReduction>1</mechanicalReduction>
    </actuator>
  </transmission>
  <!--       *********************************** abad description *************8-->
  <joint name="LH_HAA" type="revolute">
    <!--            insert start block from parent file-->
    <origin rpy="0 0 0" xyz="-0.314 0.05 0"/>
    <parent link="trunk"/>
    <child link="LH_hip"/>
    <axis xyz="1 0 0"/>
    <dynamics damping="0" friction="0.01"/>
    <limit effort="45" lower="-0.8028514559173915" upper="0.8028514559173915" velocity="21"/>
  </joint>
  <link name="LH_hip">
    <visual>
      <origin rpy="0 0 0" xyz="0 0 0"/>
      <geometry>
        <mesh filename="../meshes/rl_abad_link.dae" scale="1 1 1"/>
      </geometry>
      <material name="orange"/>
    </visual>
    <collision>
      <origin rpy="1.5707963267948966 0 0" xyz="-0.0 0.03 0"/>
      <geometry>
        <cylinder length="0.09" radius="0.055"/>
      </geometry>
    </collision>
    <!--            tochange here-->
    <!--            <collision>-->
    <!--                <origin rpy="${pi/2} 0 0"-->
    <!--                        xyz="${abad_origin_x*front_hind_mirror} ${abad_origin_y*left_right_mirror} 0"/>-->
    <!--                <geometry>-->
    <!--                    <xacro:if value="${(left_right_bool == True) and (front_hind_bool == True)}">-->
    <!--                        <mesh filename="../meshes/fl_abad_link.dae"-->
    <!--                              scale="1 1 1"/>-->
    <!--                    </xacro:if>-->
    <!--                    <xacro:if value="${(left_right_bool == False) and (front_hind_bool == True)}">-->
    <!--                        <mesh filename="../meshes/fr_abad_link.dae"-->
    <!--                              scale="1 1 1"/>-->
    <!--                    </xacro:if>-->
    <!--                    <xacro:if value="${(left_right_bool == True) and (front_hind_bool == False)}">-->
    <!--                        <mesh filename="../meshes/rl_abad_link.dae"-->
    <!--                              scale="1 1 1"/>-->
    <!--                    </xacro:if>-->
    <!--                    <xacro:if value="${(left_right_bool == False) and (front_hind_bool == False)}">-->
    <!--                        <mesh filename="../meshes/rr_abad_link.dae"-->
    <!--                              scale="1 1 1"/>-->
    <!--                    </xacro:if>-->
    <!--                </geometry>-->
    <!--            </collision>-->
    <inertial>
      <origin rpy="0 0 0" xyz="-1.787e-05 0.00607236 -8.968e-05"/>
      <mass value="0.7766"/>
      <inertia ixx="0.00066364" ixy="-0.0" ixz="0" iyy="0.00093712" iyz="2.89e-06" izz="0.00106375"/>
    </inertial>
  </link>
  <!--        *************************************** hip description ******************************************************-->
  <joint name="LH_HFE" type="revolute">
    <origin rpy="0 0 0" xyz="0 0.1408 0"/>
    <parent link="LH_hip"/>
    <child link="LH_thigh"/>
    <axis xyz="0 1 0"/>
    <dynamics damping="0" friction="0.01"/>
    <limit effort="45" lower="-4.1887902047863905" upper="4.1887902047863905" velocity="21"/>
  </joint>
  <link name="LH_thigh">
    <visual>
      <origin rpy="0 0 0" xyz="0 0 0"/>
      <geometry>
        <mesh filename="../meshes/rl_hip_link.dae" scale="1 1 1"/>
      </geometry>
      <material name="orange"/>
    </visual>
    <collision>
      <origin rpy="1.5707963267948966 0 0" xyz="0 0 0"/>
      <geometry>
        <cylinder length="0.039" radius="0.0375"/>
      </geometry>
    </collision>
    <collision>
      <origin rpy="1.5707963267948966 0 0" xyz="0 -0.04 0"/>
      <geometry>
        <cylinder length="0.048" radius="0.05"/>
      </geometry>
    </collision>
    <collision>
      <origin rpy="0 1.5707963267948966 0" xyz="0 0 -0.1382"/>
      <geometry>
        <box size="0.2159 0.05 0.05"/>
      </geometry>
    </collision>
    <inertial>
      <origin rpy="0 0 0" xyz="0.00142243 -0.02451835 -0.06737031"/>
      <mass value="2.1028"/>
      <inertia ixx="0.03392455" ixy="-1.021e-05" ixz="-0.00038283" iyy="0.03116088" iyz="-4.69e-05" izz="0.00483256"/>
    </inertial>
  </link>
  <!--************************************************ knee description ***********************************************************8-->
  <joint name="LH_KFE" type="revolute">
    <origin rpy="0 0 0" xyz="-0.0 0.0 -0.272"/>
    <parent link="LH_thigh"/>
    <child link="LH_calf"/>
    <axis xyz="0 1 0"/>
    <dynamics damping="0" friction="0.01"/>
    <limit effort="80" lower="0.9162978572970231" upper="2.6965336943312392" velocity="21"/>
  </joint>
  <link name="LH_calf">
    <visual>
      <origin rpy="0 0 0" xyz="0 0 0"/>
      <geometry>
        <mesh filename="../meshes/rl_knee_link.STL" scale="1 1 1"/>
      </geometry>
      <material name="orange"/>
    </visual>
    <collision>
      <origin rpy="0 0 0" xyz="0 0 0.0"/>
      <geometry>
        <mesh filename="../meshes/rl_knee_link.STL" scale="1 1 1"/>
      </geometry>
    </collision>
    <inertial>
      <origin rpy="0 0 0" xyz="-0.00804831 1.07e-06 -0.12689414"/>
      <mass value="0.4842"/>
      <inertia ixx="0.01527064" ixy="0.0" ixz="-0.00063844" iyy="0.01543121" iyz="2e-08" izz="0.00022068"/>
    </inertial>
  </link>
  <!--       ******************************* foot description ********************************8-->
  <joint name="LH_foot_fixed" type="fixed" dont_collapse="true">
    <origin rpy="0 0 0" xyz="0 0 -0.303542171457651"/>
    <!-- <origin rpy="0 0 0" xyz="0 0 0"/> -->
    <parent link="LH_calf"/>
    <child link="LH_FOOT"/>
  </joint>
  <link name="LH_FOOT">
    <visual>
      <origin rpy="0 0 0" xyz="0 0 0"/>
      <geometry>
        <mesh filename="../meshes/rl_foot_link.STL" scale="1 1 1"/>
      </geometry>
    </visual>
    <collision>
      <origin rpy="0 0 0" xyz="0 0 0"/>
      <!-- <geometry>
        <sphere radius="0.03"/>
      </geometry> -->
      <geometry>
        <mesh filename="../meshes/rl_foot_link.STL" scale="1 1 1"/>
      </geometry>
    </collision>
    <inertial>
      <mass value="0.06"/>
      <inertia ixx="9.600000000000001e-04" ixy="0.0" ixz="0.0" iyy="9.600000000000001e-04" iyz="0.0" izz="9.600000000000001e-03"/>
    </inertial>
  </link>
  <!--        ************************** gazebo setting ***********************************************8-->
  <gazebo reference="LH_foot_fixed">
    <disableFixedJointLumping>true</disableFixedJointLumping>
  </gazebo>
  <gazebo reference="LH_hip">
    <!--            <mu1>0.5</mu1>-->
    <!--            <mu2>0.5</mu2>-->
    <!--            <self_collide>1</self_collide>-->
    <!--            <material>Gazebo/DarkGrey</material>-->
  </gazebo>
  <gazebo reference="LH_thigh">
    <mu1>0.6</mu1>
    <mu2>0.6</mu2>
    <self_collide>0</self_collide>
    <material>Gazebo/DarkGrey</material>
    <kp value="100000.0"/>
    <kd value="1.0"/>
  </gazebo>
  <gazebo reference="LH_calf">
    <mu1>0.6</mu1>
    <mu2>0.6</mu2>
    <self_collide>1</self_collide>
    <material>Gazebo/DarkGrey</material>
    <kp value="100000.0"/>
    <kd value="1.0"/>
    <maxVel>10.0</maxVel>
    <minDepth>0.001</minDepth>
  </gazebo>
  <transmission name="LH_hip_tran">
    <type>transmission_interface/SimpleTransmission</type>
    <joint name="LH_HAA">
      <hardwareInterface>hardware_interface/EffortJointInterface</hardwareInterface>
    </joint>
    <actuator name="LH_hip_motor">
      <hardwareInterface>hardware_interface/EffortJointInterface</hardwareInterface>
      <mechanicalReduction>1</mechanicalReduction>
    </actuator>
  </transmission>
  <transmission name="LH_thigh_tran">
    <type>transmission_interface/SimpleTransmission</type>
    <joint name="LH_HFE">
      <hardwareInterface>hardware_interface/EffortJointInterface</hardwareInterface>
    </joint>
    <actuator name="LH_thigh_motor">
      <hardwareInterface>hardware_interface/EffortJointInterface</hardwareInterface>
      <mechanicalReduction>1</mechanicalReduction>
    </actuator>
  </transmission>
  <transmission name="LH_calf_trans">
    <type>transmission_interface/SimpleTransmission</type>
    <joint name="LH_KFE">
      <hardwareInterface>hardware_interface/EffortJointInterface</hardwareInterface>
    </joint>
    <actuator name="LH_calf_motor">
      <hardwareInterface>hardware_interface/EffortJointInterface</hardwareInterface>
      <mechanicalReduction>1</mechanicalReduction>
    </actuator>
  </transmission>
</robot>
